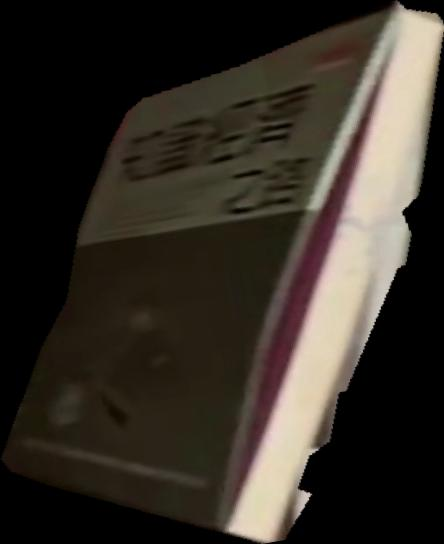backward: (1, 1, 444, 544)
